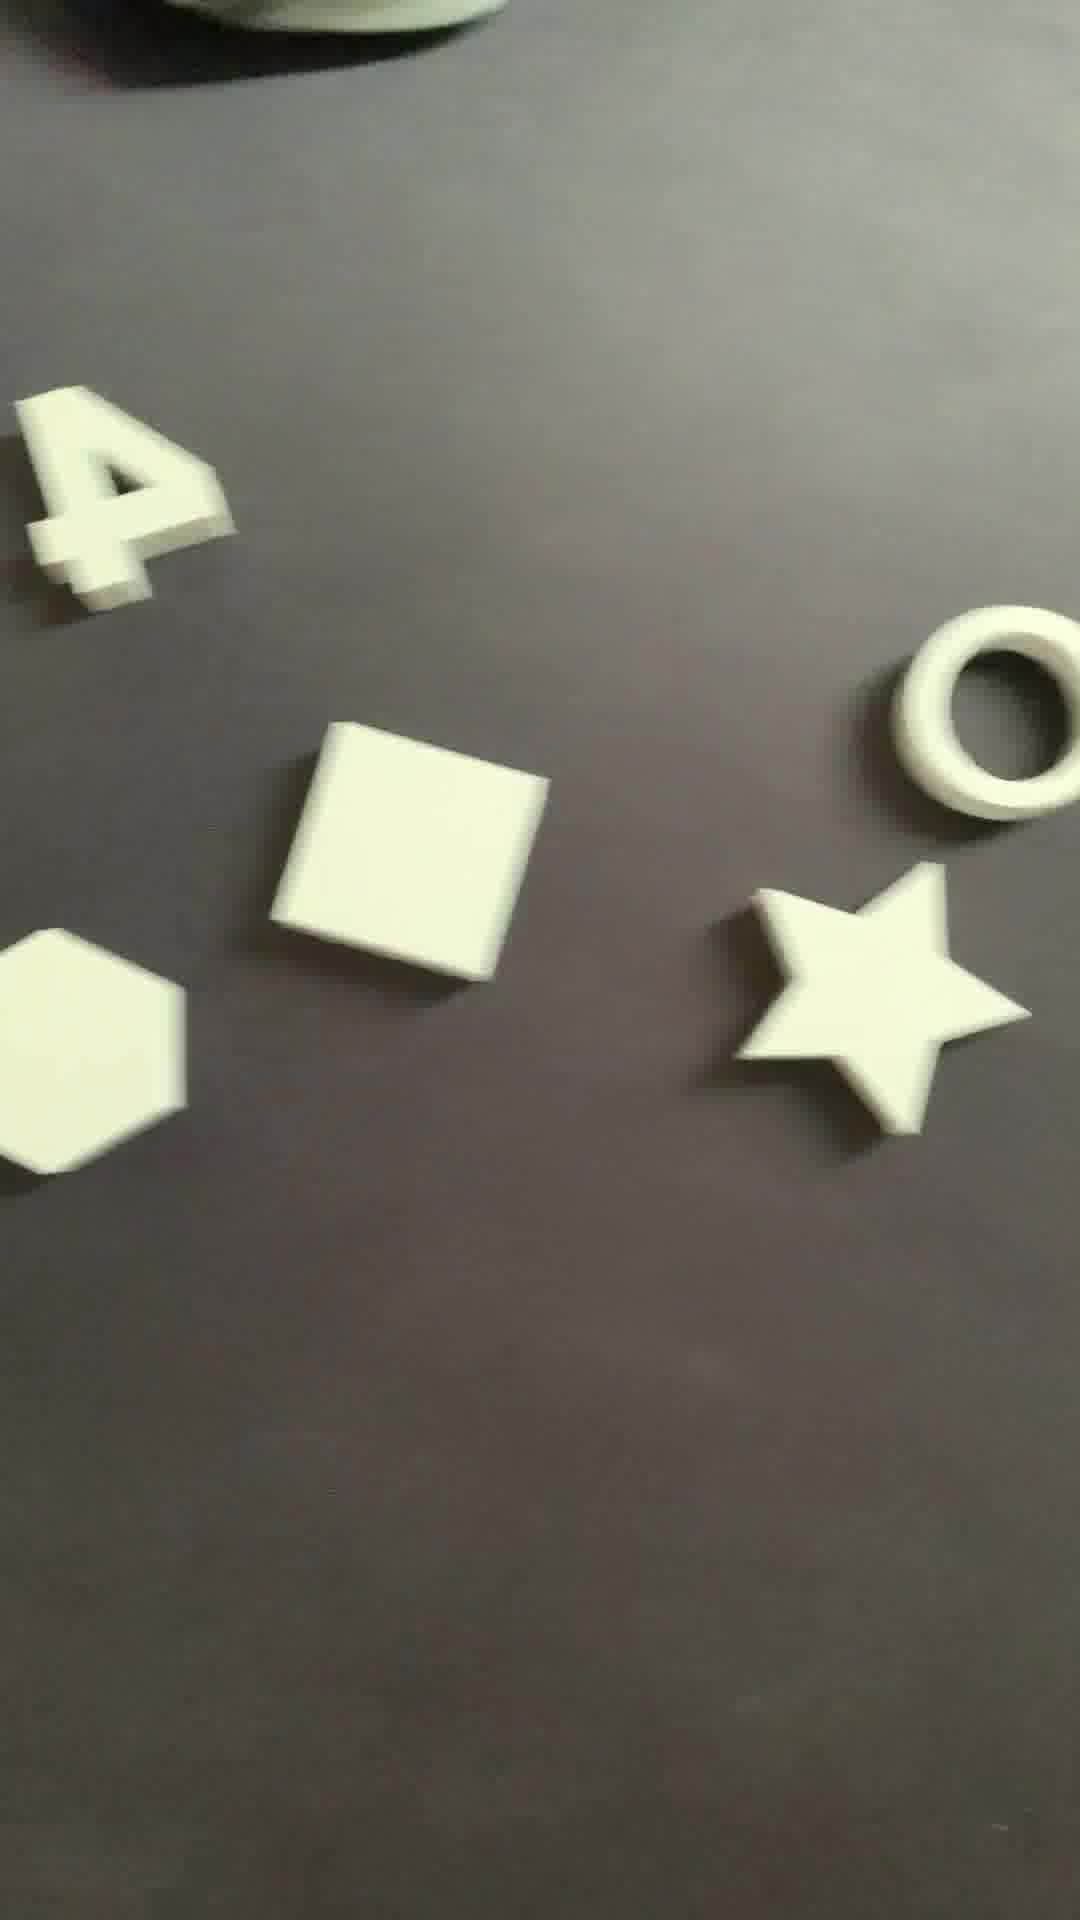Gray four: (4, 386, 247, 622)
Gray hexagon: (1, 926, 189, 1199)
Gray ring: (891, 597, 1080, 833)
Gray square: (258, 717, 562, 975)
Gray star: (723, 852, 1017, 1147)
